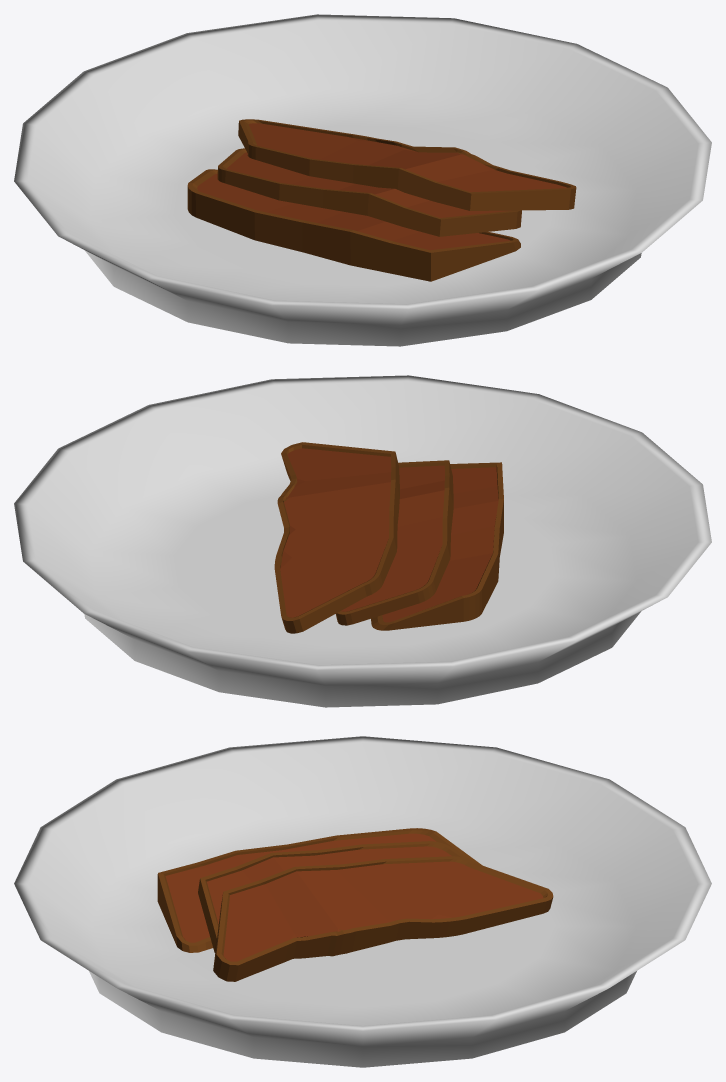
The model's file is Carne.fbx.
The picture shows the model from 3 angles, top to bottom: view 1: azimuth 30°, elevation 25°; view 2: azimuth 150°, elevation 25°; view 3: azimuth 270°, elevation 25°; orthographic projection.
Parts seen in each view (by area): view 1: CarneCortadaCocinada.004; view 2: CarneCortadaCocinada.004; view 3: CarneCortadaCocinada.004.
Part boxes in pixels (x1,y1,x2,y2): CarneCortadaCocinada.004: [14, 14, 711, 346]; CarneCortadaCocinada.004: [14, 375, 711, 707]; CarneCortadaCocinada.004: [14, 736, 711, 1067].
Bounding box in the file's own units: 238 × 30.6 × 238.
